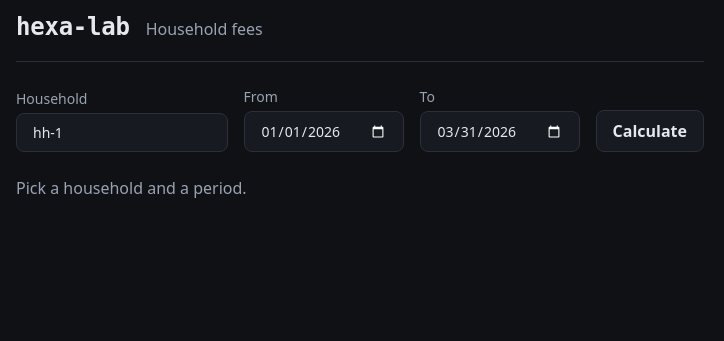
Test: the total comes from the server, not from summing the lines
Click the button "Calculate": x=650, y=131 [596,110,704,152]
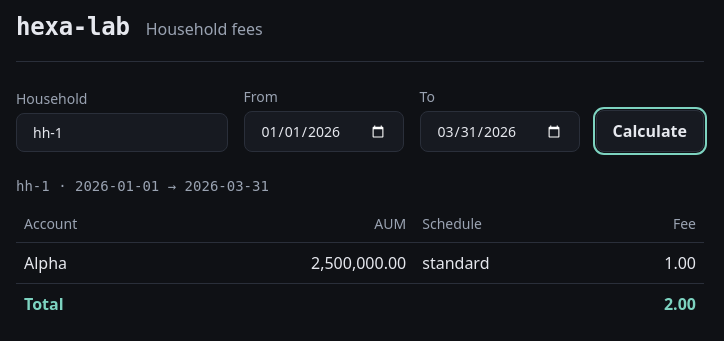
Result: the text "2.00" is shown at [598,284,704,324]
